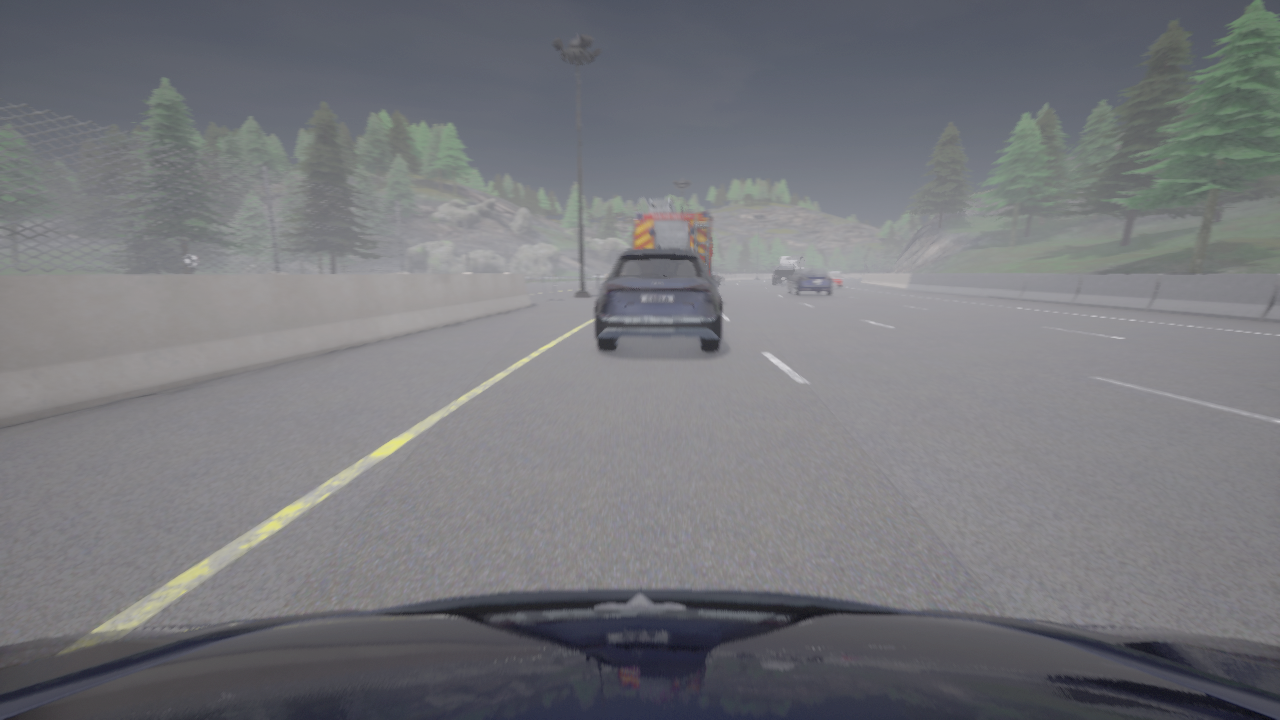cyclist: (0, 588, 1279, 719), (595, 246, 721, 351), (633, 199, 712, 276), (787, 268, 832, 295), (779, 255, 805, 282), (773, 265, 795, 284), (828, 271, 842, 288), (711, 271, 725, 284)
